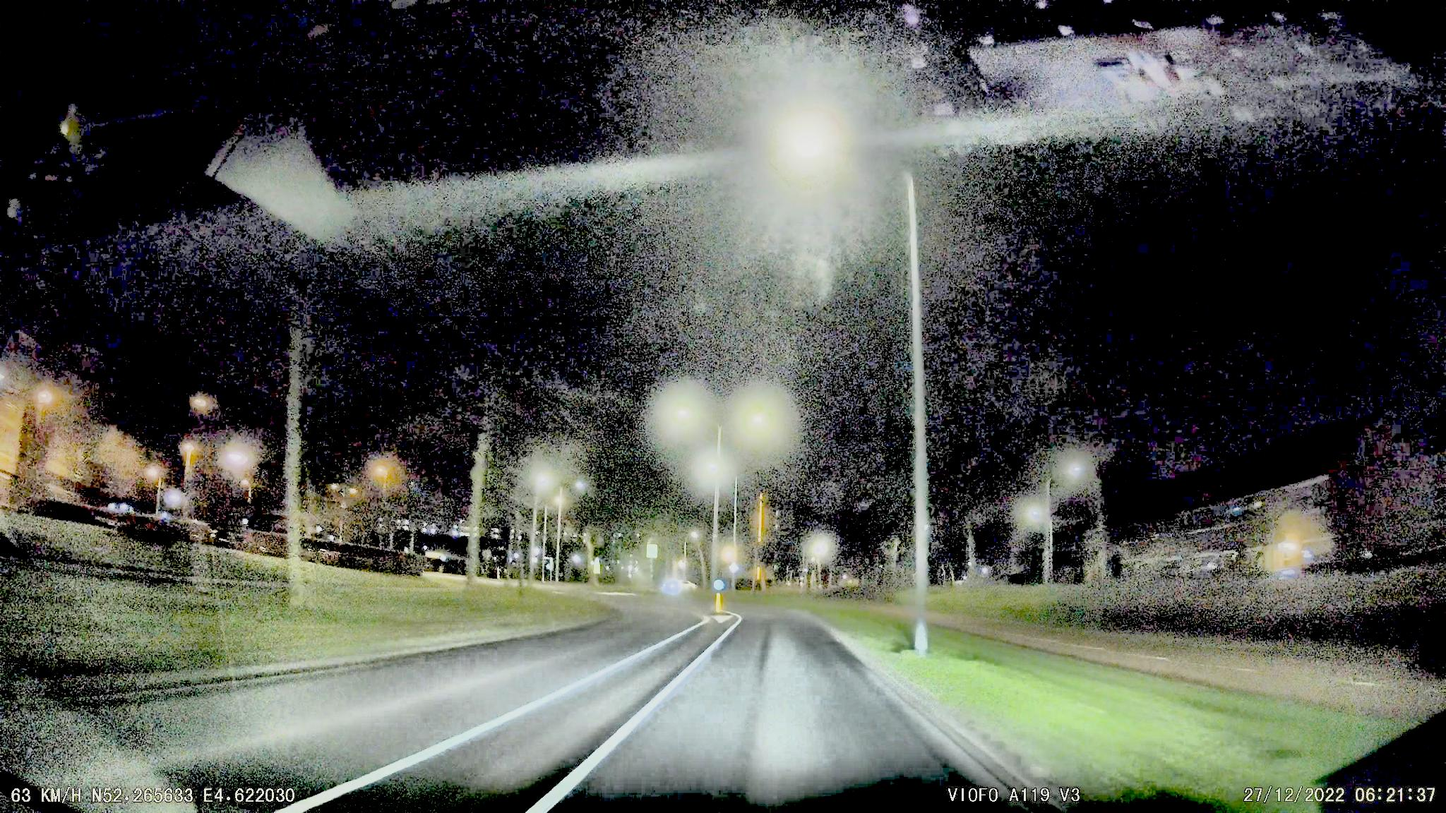Roads: (163, 604, 1078, 813)
